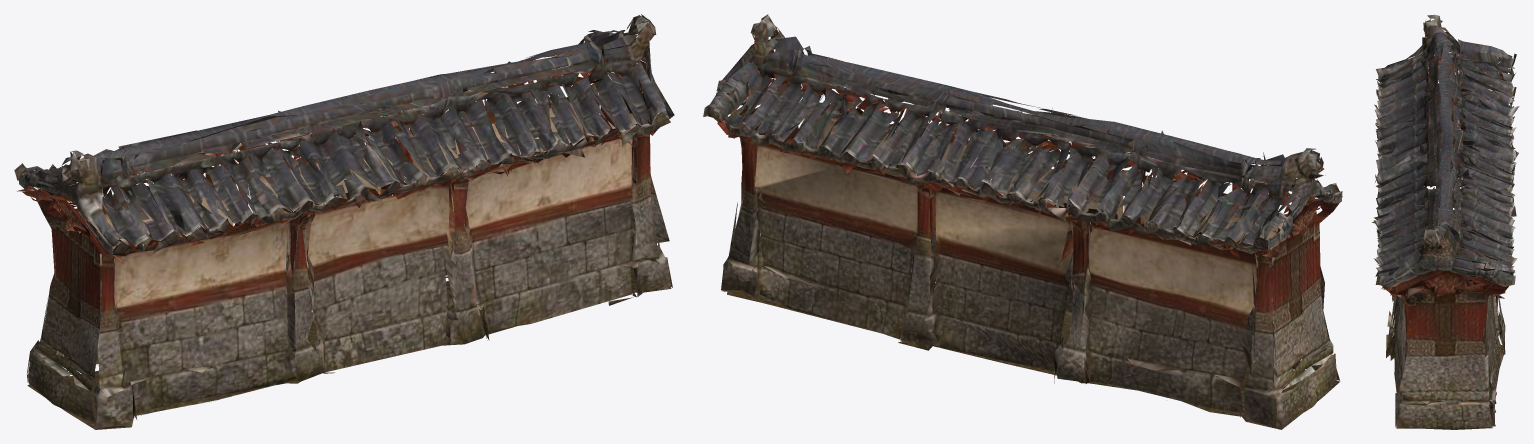
Rendered from muro_lod1.glb.
The picture shows the model from 3 angles, left to right: view 1: azimuth 30°, elevation 25°; view 2: azimuth 150°, elevation 25°; view 3: azimuth 270°, elevation 25°; orthographic projection. The views are drawn at different scales.
Visible parts, largest first — view 1: muro; view 2: muro; view 3: muro.
Part boxes in pixels (x1,y1,x2,y2): muro: [14, 14, 674, 429]; muro: [703, 14, 1342, 429]; muro: [1372, 14, 1519, 429].
Bounding box in the file's own units: 5.29 × 2.24 × 1.49.
Materials: 1 (1 with a texture image).
